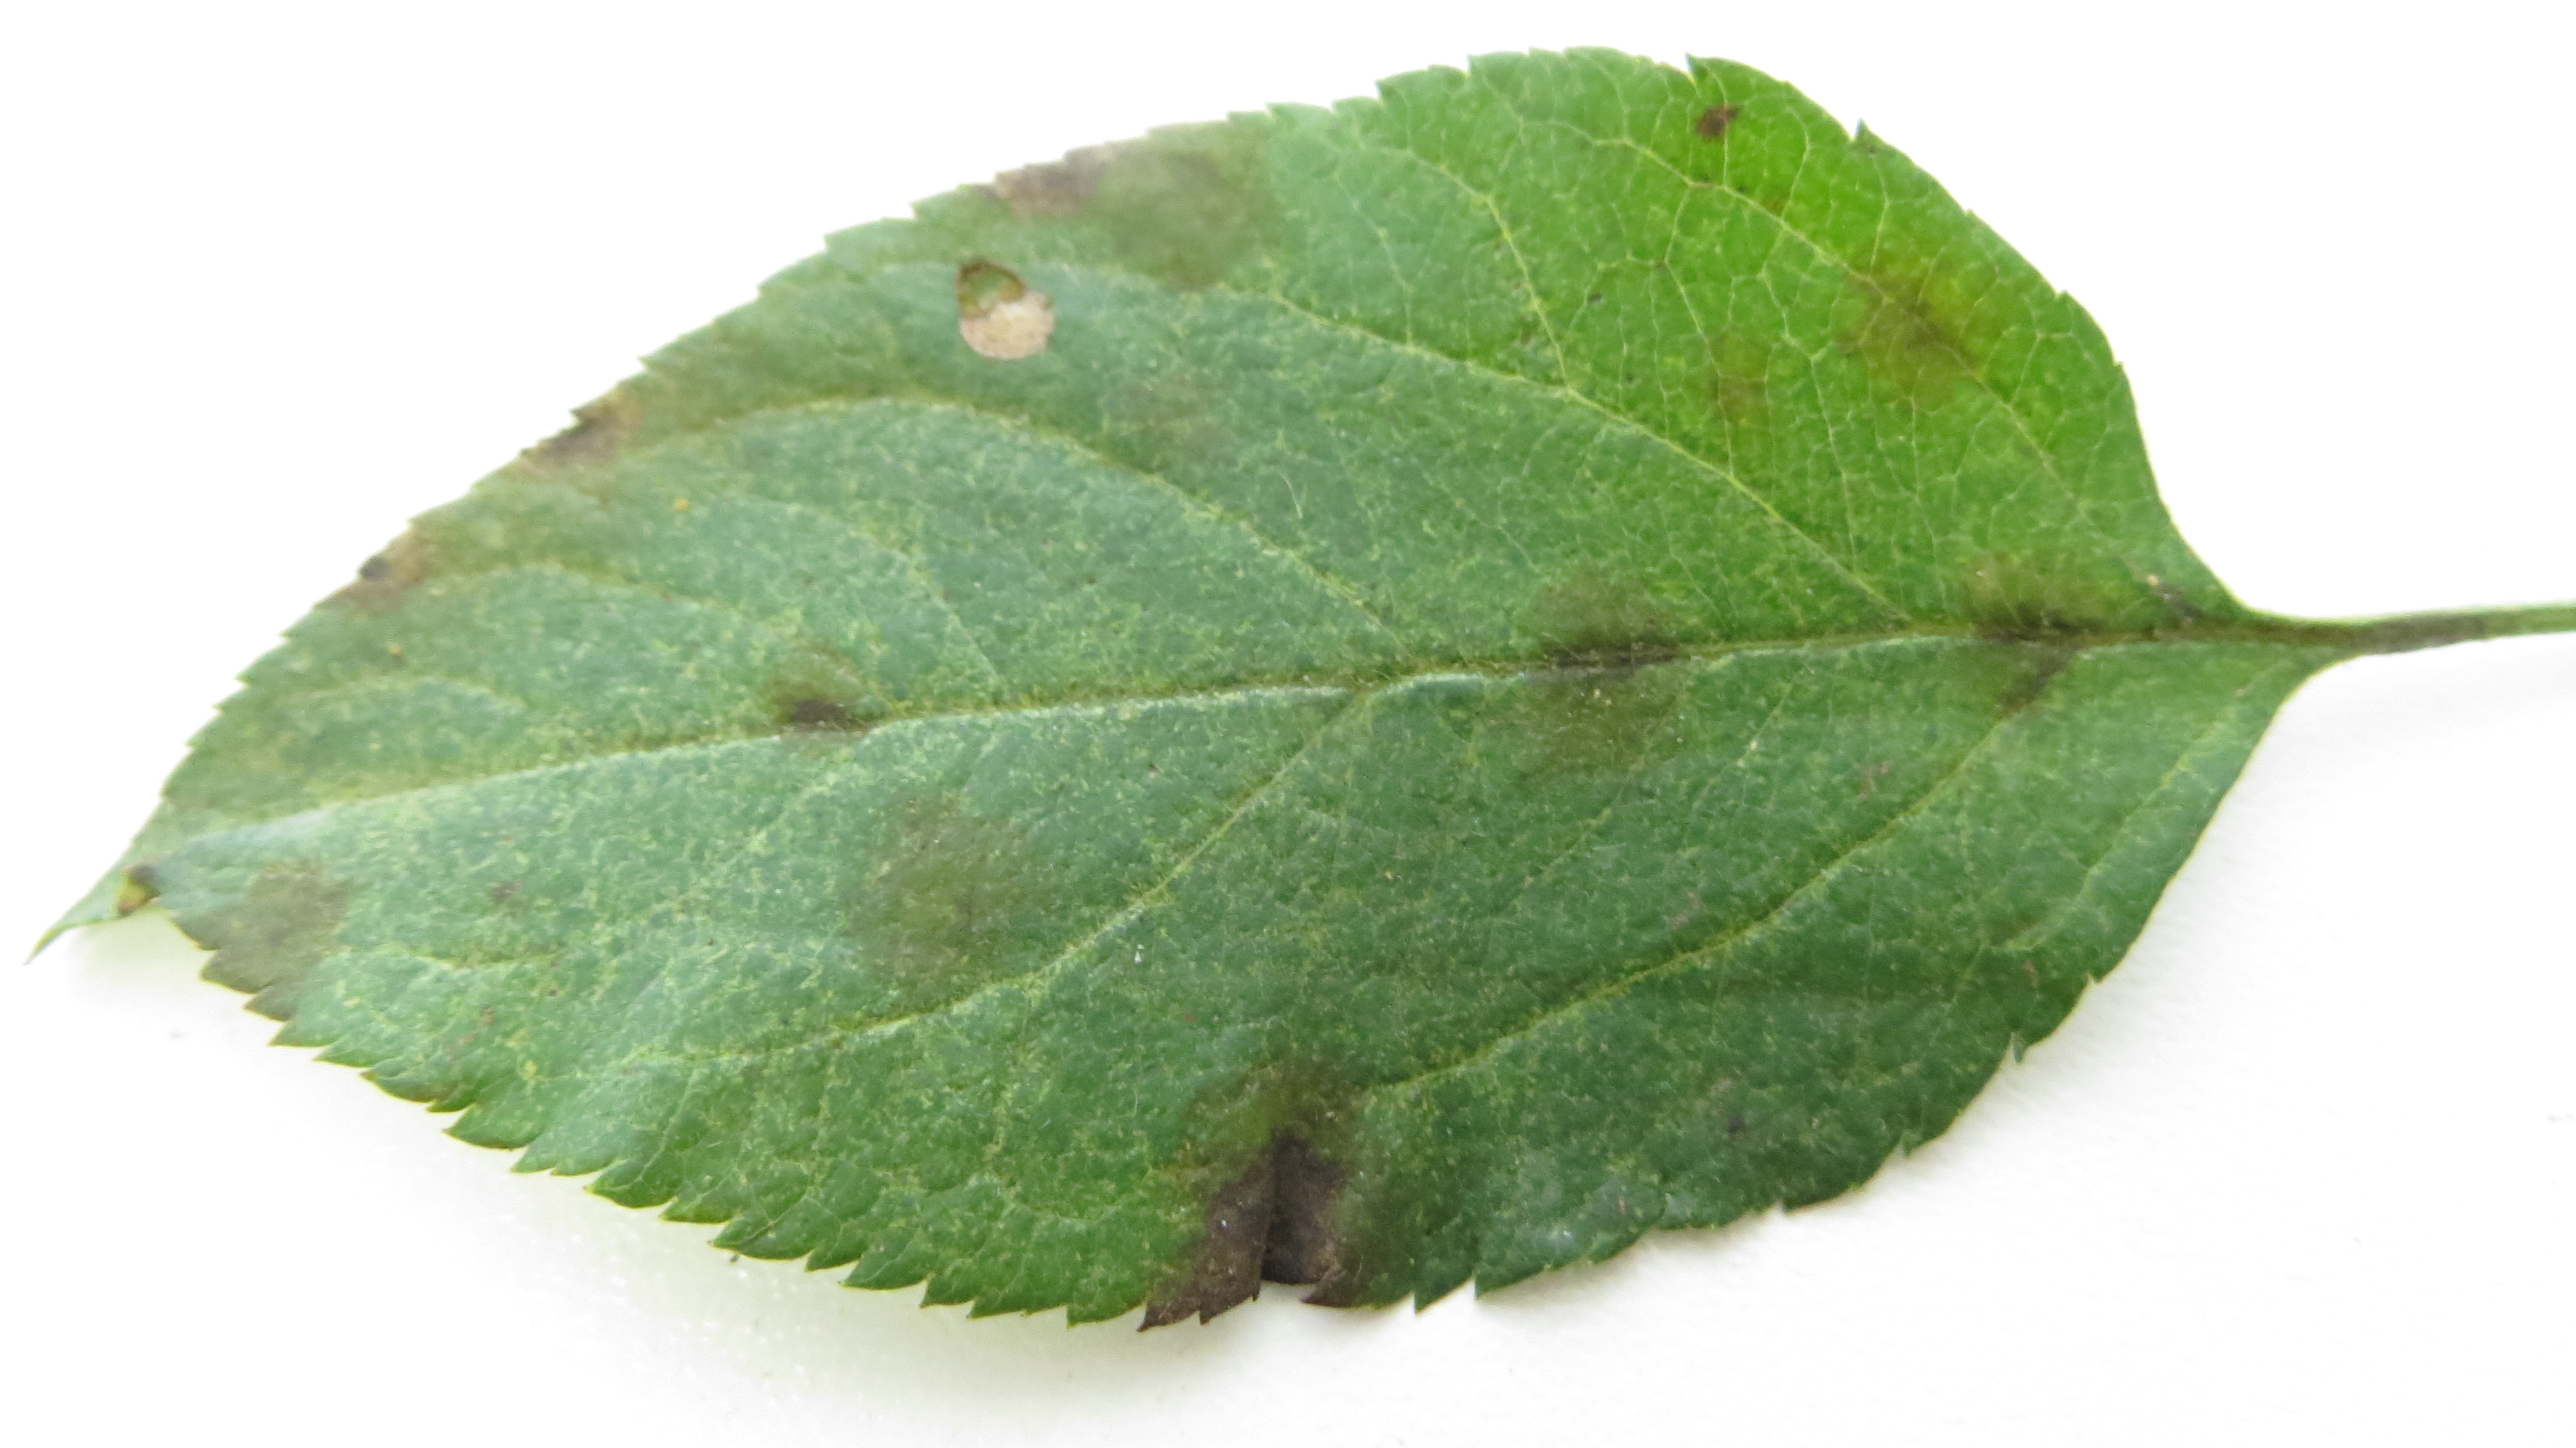sarna: (1136, 1030, 1371, 1319), (994, 135, 1277, 297), (839, 775, 1047, 991), (1500, 563, 1714, 772), (1946, 547, 2125, 738), (184, 839, 359, 1004), (1835, 241, 1985, 412), (745, 632, 897, 775), (927, 250, 1060, 386), (518, 386, 665, 506), (331, 515, 467, 632), (1675, 310, 1789, 446), (1672, 83, 1752, 163)
